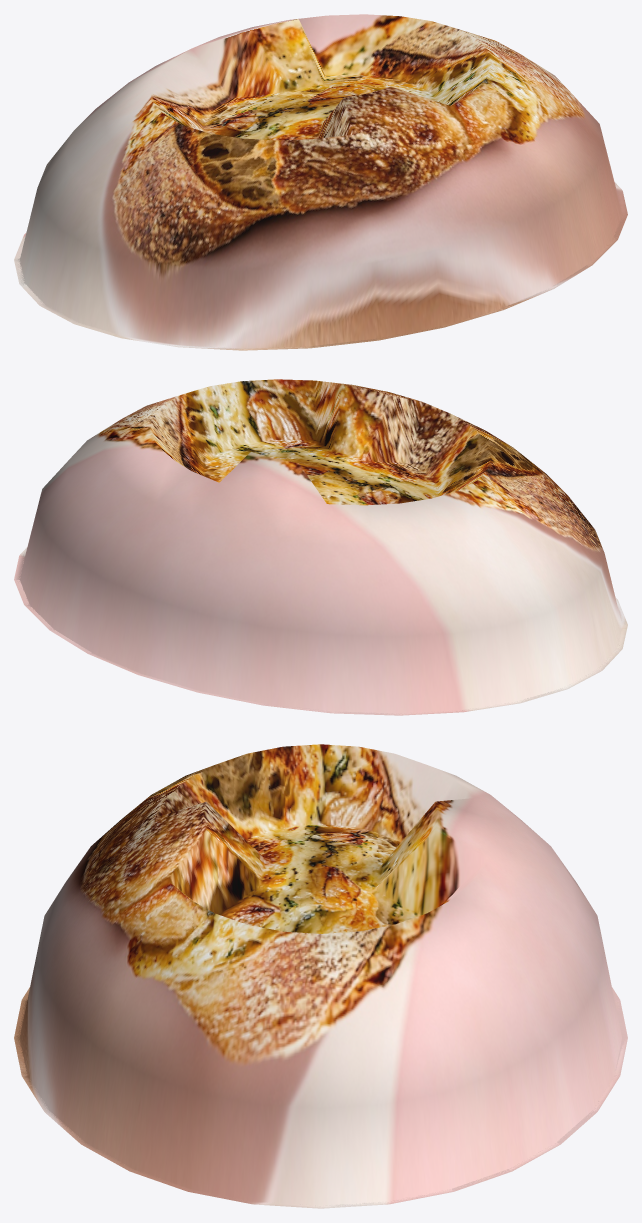
The model's file is prop_loaf_garlic.glb.
The picture shows the model from 3 angles, top to bottom: view 1: azimuth 30°, elevation 25°; view 2: azimuth 150°, elevation 25°; view 3: azimuth 270°, elevation 25°; orthographic projection. The views are drawn at different scales.
Visible parts, largest first — view 1: prop_loaf_garlic; view 2: prop_loaf_garlic; view 3: prop_loaf_garlic.
Boxes of the visible parts, left/top/right/bottom form: prop_loaf_garlic: left=14, top=14, right=627, bottom=350; prop_loaf_garlic: left=14, top=379, right=627, bottom=715; prop_loaf_garlic: left=14, top=744, right=627, bottom=1208.
Bounding box in the file's own units: 0.18 × 0.0545 × 0.1368.
1 material, 1 textured.
